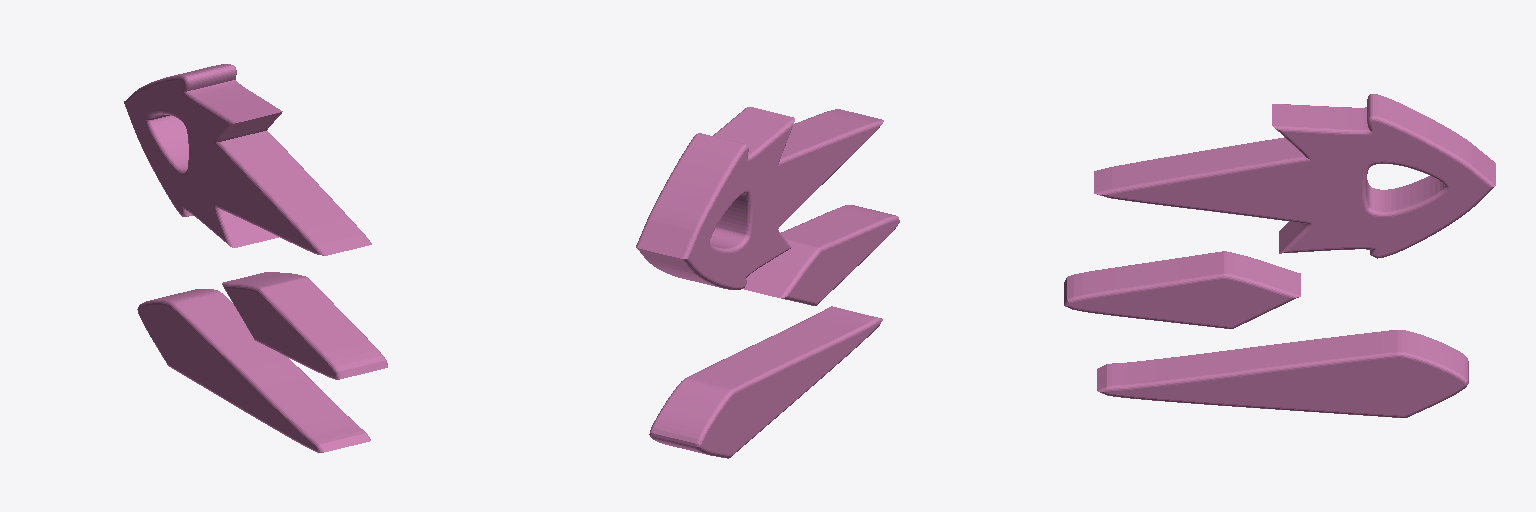
File: Rapid_Fire.obj
3 renders of one model, left to right at view 1: azimuth 30°, elevation 25°; view 2: azimuth 150°, elevation 25°; view 3: azimuth 270°, elevation 25°, orthographic.
Visible parts, largest first — view 1: Curve.031; view 2: Curve.031; view 3: Curve.031.
Boxes of the visible parts, box(x1,y1,x2,y2) form: Curve.031: box(124, 64, 387, 452); Curve.031: box(636, 107, 899, 458); Curve.031: box(1064, 94, 1495, 417).
Bounding box in the file's own units: 0.35 × 1.95 × 2.53.